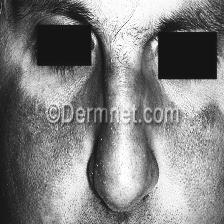Unclassified: (1, 81, 44, 202), (166, 134, 224, 188), (100, 134, 148, 174), (192, 108, 224, 149), (47, 127, 77, 158), (107, 60, 133, 94)
